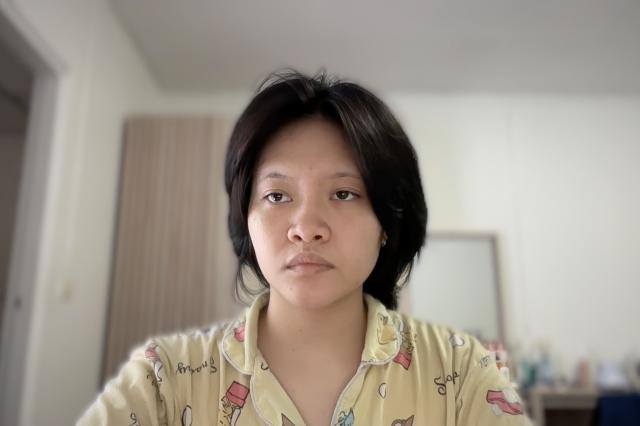fokus: (235, 86, 401, 304)
